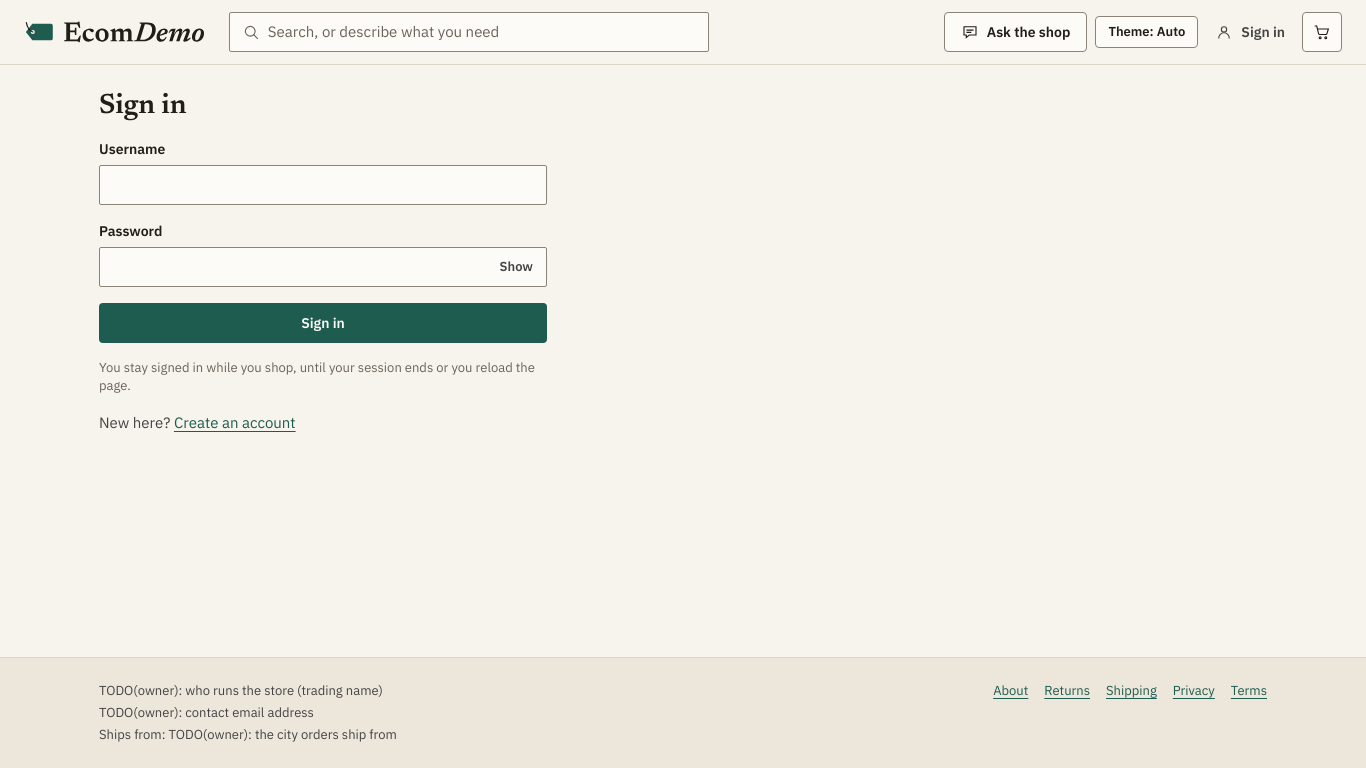
Scenario: a 401 in the middle of a session › does not treat a 401 from the login itself as an ended session
Expected: the heading "Sign in" is shown, [99,89,187,123]
Step 1. Type "asha.rao" into the field labelled "Username" → [323, 185], box [112,166,534,204]
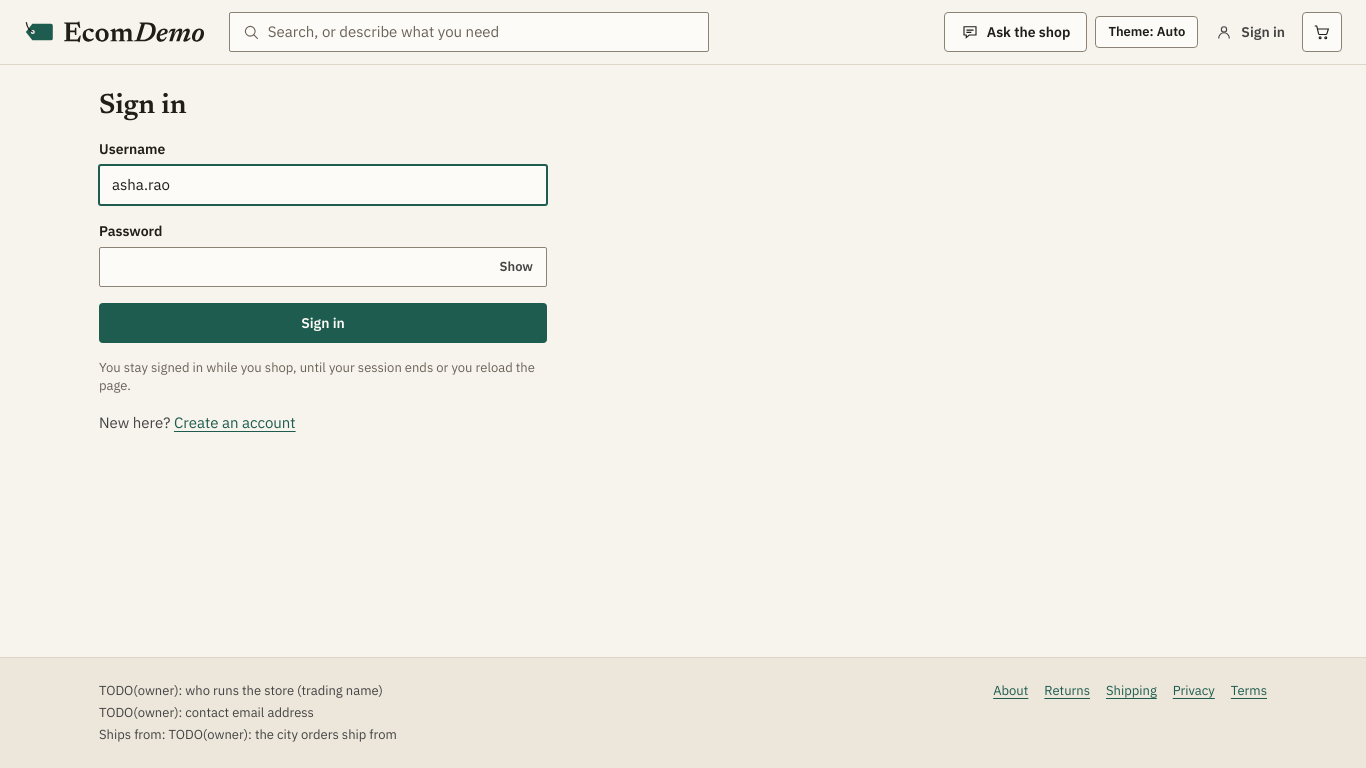
Step 2. Type "wrong" into the password field labelled "Password" → [297, 267], box [112,248,483,286]
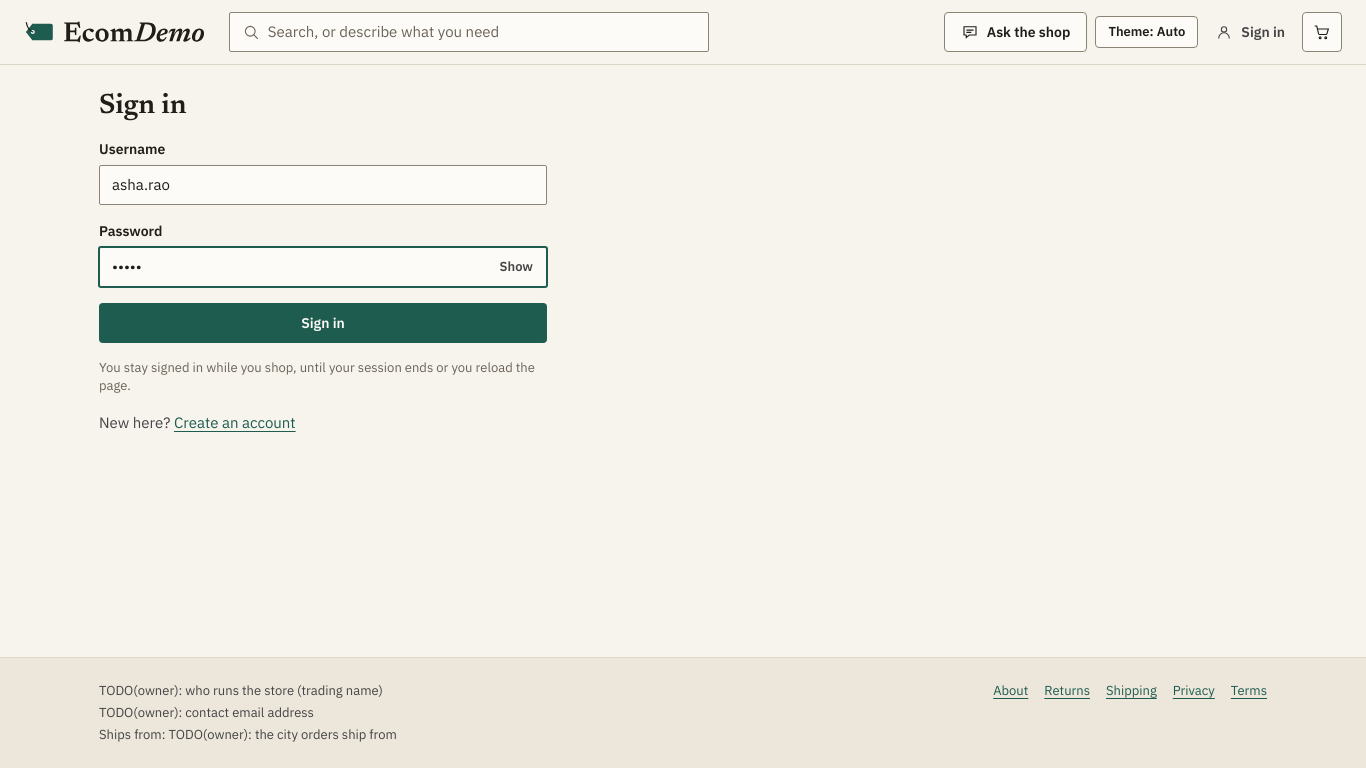
Step 3. Click the button "Sign in" → [323, 323], box [99,303,547,343]
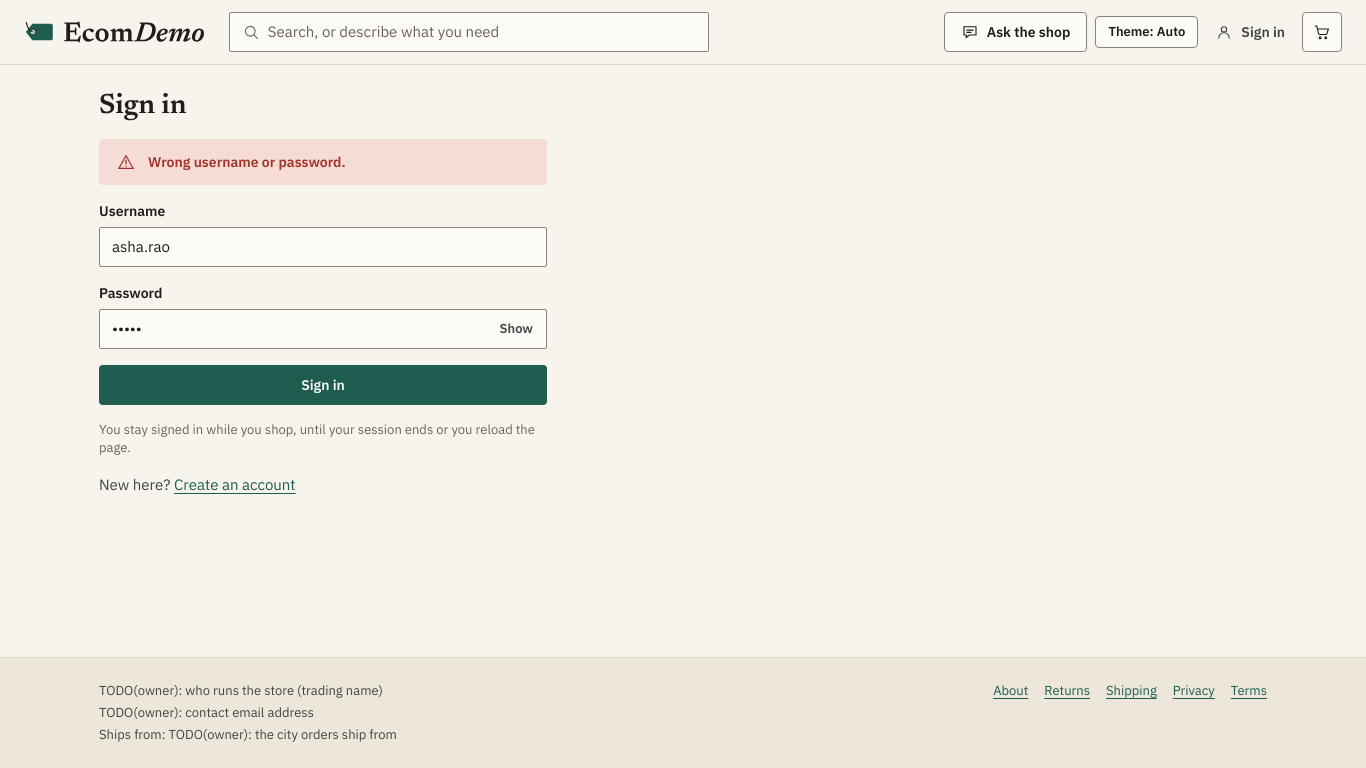
Expected: the text "Wrong username or password." is shown, [148,153,346,171]
